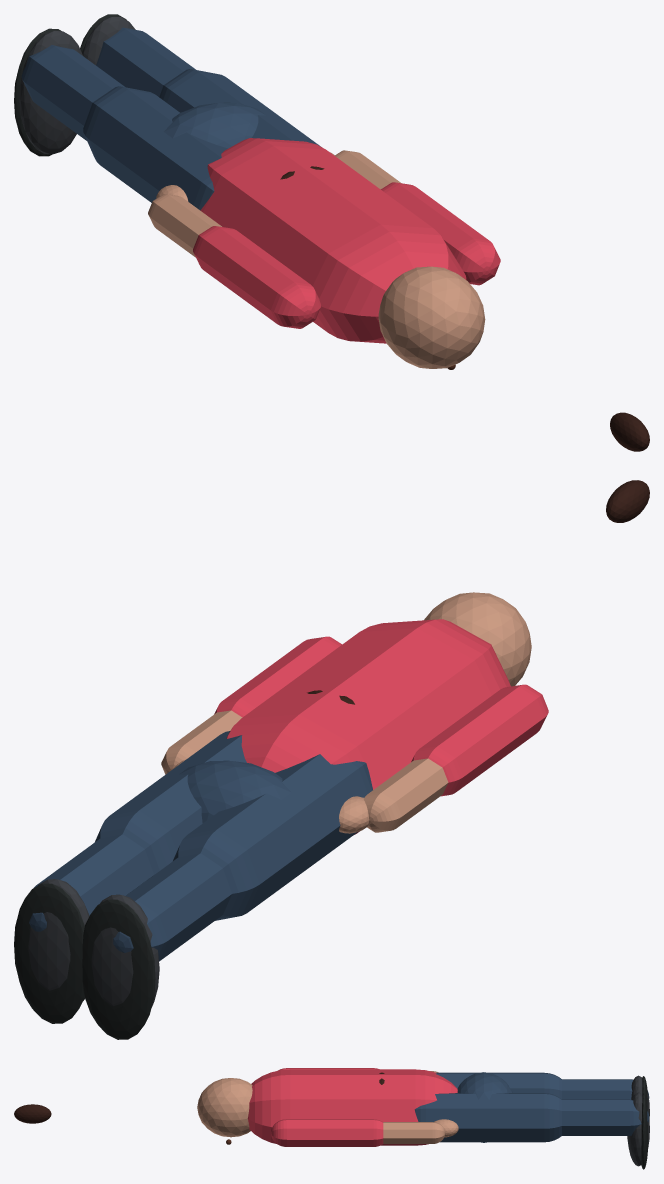
Rendered from hero_julia.glb.
3 views of the same model, one above another, from view 1: azimuth 30°, elevation 25°; view 2: azimuth 150°, elevation 25°; view 3: azimuth 270°, elevation 25° (orthographic). The views are drawn at different scales.
Parts seen in each view (by area): view 1: Torso, LeftThigh, Head, UpperArmL, LeftCalf, UpperArmR, RightCalf, RightThigh, Pelvis, SneakerL, ForearmL, HairSide (+3 smaller); view 2: Torso, LeftThigh, UpperArmL, RightThigh, LeftCalf, SoleL, SoleR, RightCalf, Head, Pelvis, ForearmL, UpperArmR (+5 smaller); view 3: Torso, RightThigh, UpperArmR, RightCalf, Head, LeftThigh, LeftCalf, ForearmR, Pelvis, SneakerR, HairSide, SoleR (+3 smaller).
Part boxes in pixels (x1,y1,x2,y2): Torso: (200,138,466,343); LeftThigh: (83,86,227,210); Head: (378,266,485,368); UpperArmL: (193,226,320,328); LeftCalf: (21,45,124,140); UpperArmR: (381,182,500,285); RightCalf: (96,27,195,96); RightThigh: (159,69,320,146); Pelvis: (164,102,265,148); SneakerL: (19,31,82,154); ForearmL: (148,194,221,257); HairSide: (610,412,649,451); Torso: (226,619,510,834); LeftThigh: (173,754,372,920); UpperArmL: (411,684,548,796); RightThigh: (95,731,246,874); LeftCalf: (113,853,231,961); SoleL: (82,899,155,1039); SoleR: (14,883,84,1023); RightCalf: (29,834,153,931); Head: (424,592,531,686); Pelvis: (179,760,291,823); ForearmL: (363,758,448,832); UpperArmR: (214,636,341,717); Torso: (247,1069,457,1145); RightThigh: (414,1093,561,1142); UpperArmR: (271,1119,383,1146); RightCalf: (562,1099,649,1135); Head: (197,1078,252,1137); LeftThigh: (435,1072,561,1098); LeftCalf: (562,1079,649,1099); ForearmR: (383,1122,445,1143); Pelvis: (457,1072,512,1142); SneakerR: (627,1092,649,1166); HairSide: (14,1104,51,1123); SoleR: (641,1093,647,1169).
Bounding box in the file's own units: 0.67 × 0.413 × 2.79.
